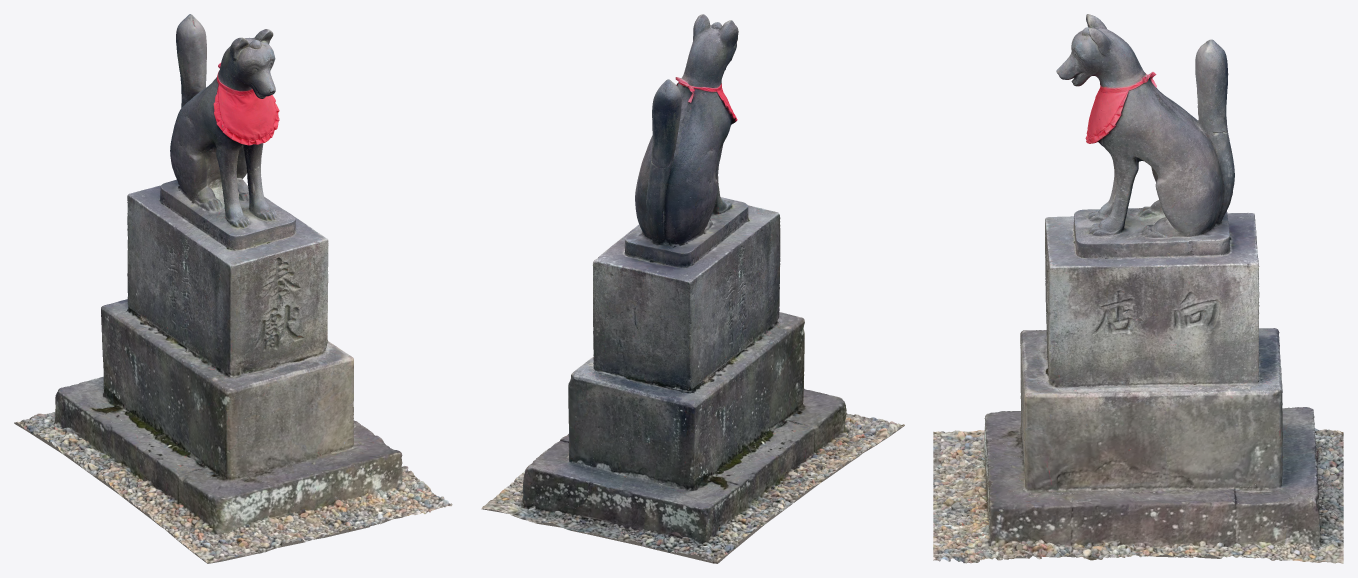
Rendered from loboGirl_optimized.glb.
3 renders of one model, left to right at view 1: azimuth 30°, elevation 25°; view 2: azimuth 150°, elevation 25°; view 3: azimuth 270°, elevation 25°, orthographic. The views are drawn at different scales.
Bounding box in the file's own units: 0.2409 × 0.4254 × 0.3295.
Materials: 2 (2 with a texture image).
